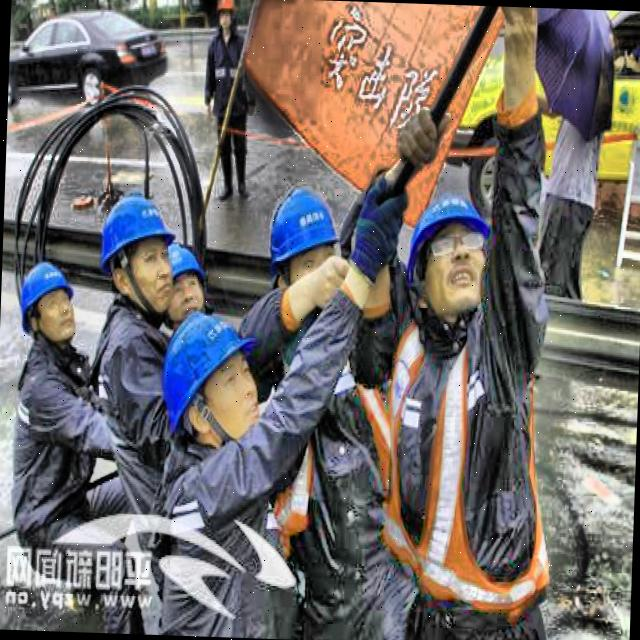helmet: (400, 172, 497, 336), (163, 310, 268, 450), (256, 175, 347, 320), (87, 182, 180, 316), (14, 252, 80, 346), (156, 234, 208, 320), (212, 0, 236, 33)
